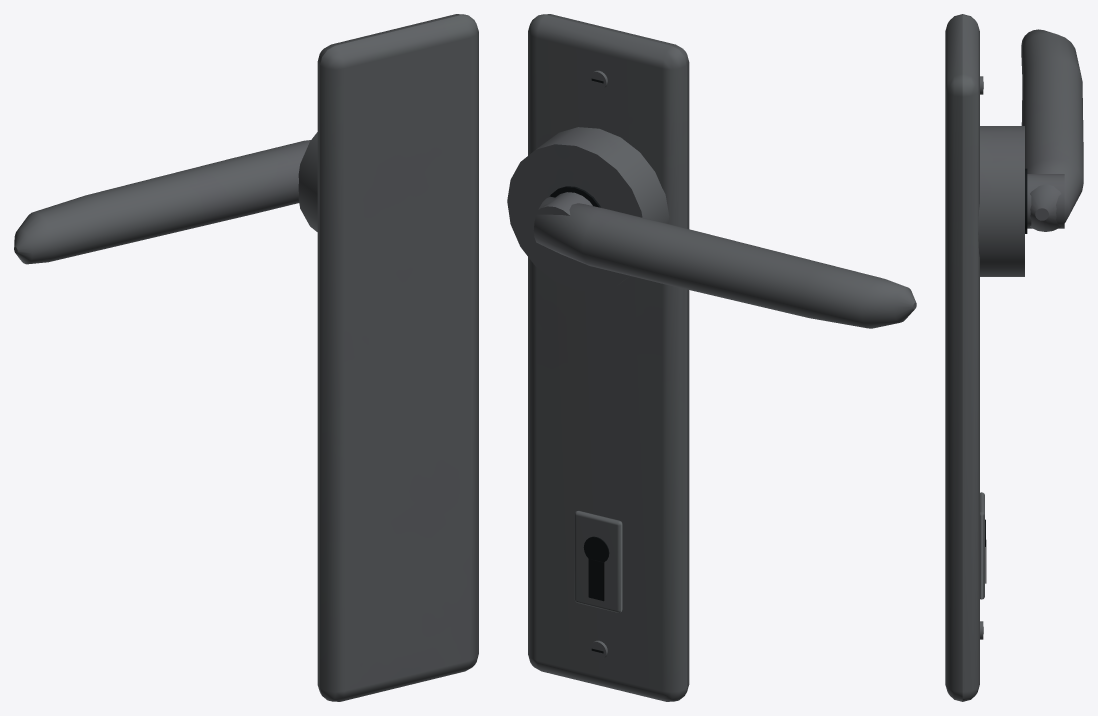
File: macaneta_porta_realista.glb
3 views of the same model, side by side, from view 1: azimuth 30°, elevation 25°; view 2: azimuth 150°, elevation 25°; view 3: azimuth 270°, elevation 25° (orthographic). The views are drawn at different scales.
Parts seen in each view (by area): view 1: Espelho_fechadura, Alavanca; view 2: Espelho_fechadura, Alavanca; view 3: Espelho_fechadura, Alavanca.
Part boxes in pixels (x1=…): Espelho_fechadura: x1=298, y1=14, x2=478, y2=701; Alavanca: x1=14, y1=140, x2=310, y2=264; Espelho_fechadura: x1=507, y1=14, x2=689, y2=701; Alavanca: x1=530, y1=192, x2=916, y2=328; Espelho_fechadura: x1=945, y1=14, x2=1027, y2=701; Alavanca: x1=1021, y1=29, x2=1083, y2=231.
Bounding box in the file's own units: 0.135 × 0.2 × 0.04.
1 material, 1 textured.
